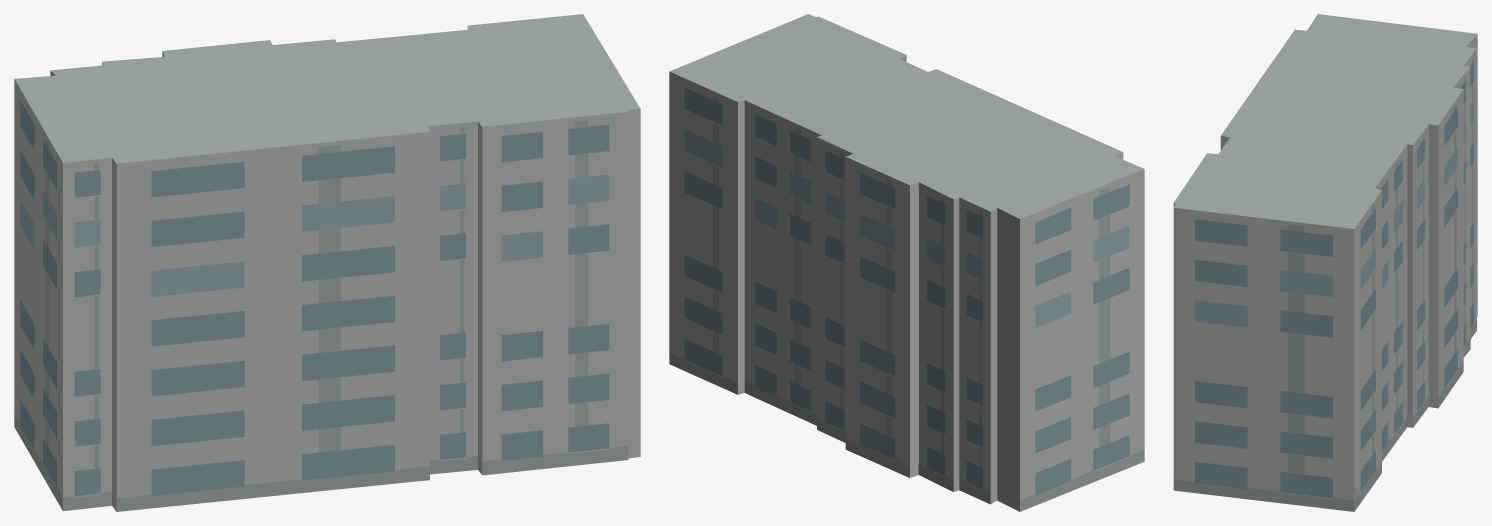
The model's file is survey-upis-32873162.glb.
3 renders of one model, left to right at view 1: azimuth 30°, elevation 25°; view 2: azimuth 150°, elevation 25°; view 3: azimuth 270°, elevation 25°, orthographic. The views are drawn at different scales.
Visible parts, largest first — view 1: survey-upis-32873162.tmp; view 2: survey-upis-32873162.tmp; view 3: survey-upis-32873162.tmp.
Part boxes in pixels (x1=…): survey-upis-32873162.tmp: x1=14, y1=14, x2=640, y2=511; survey-upis-32873162.tmp: x1=669, y1=14, x2=1144, y2=511; survey-upis-32873162.tmp: x1=1173, y1=14, x2=1477, y2=511.
Bounding box in the file's own units: 32.78 × 20.1 × 19.59.
